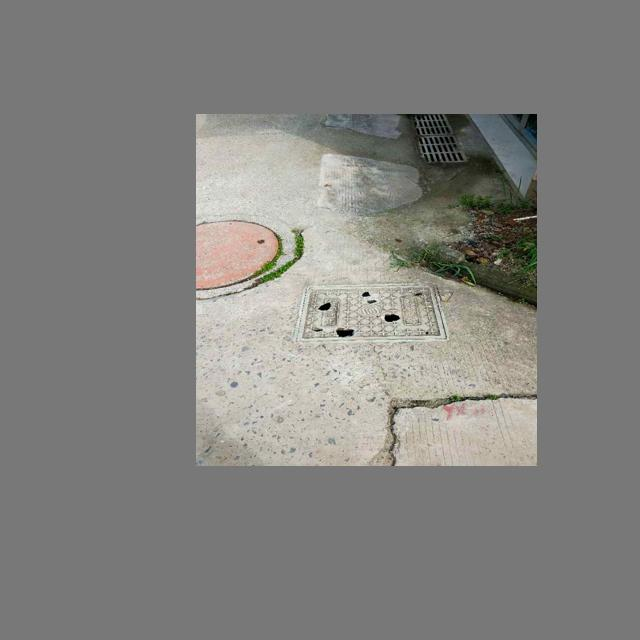broke: (294, 283, 448, 343)
